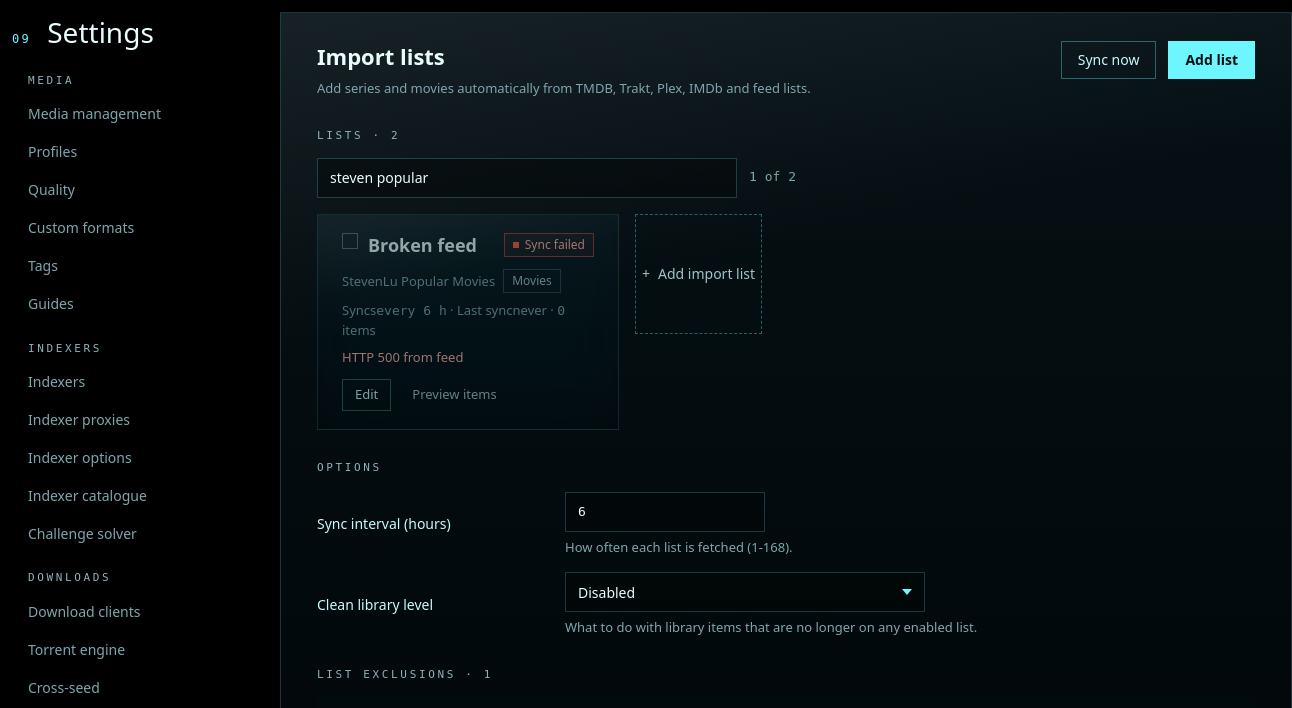
Scenario: Settings -> Import Lists › searches lists by name, list type and sync error, then clears
The width and height of the screenshot is (1292, 708).
Expected: the button "Broken feed" is shown, x1=368 y1=233 x2=494 y2=257
Expected: the button "Marvel" is not shown
Step 1. Replace the text in the search field named "Search this list" with "http 500" → [527, 178], box x1=317 y1=158 x2=737 y2=198
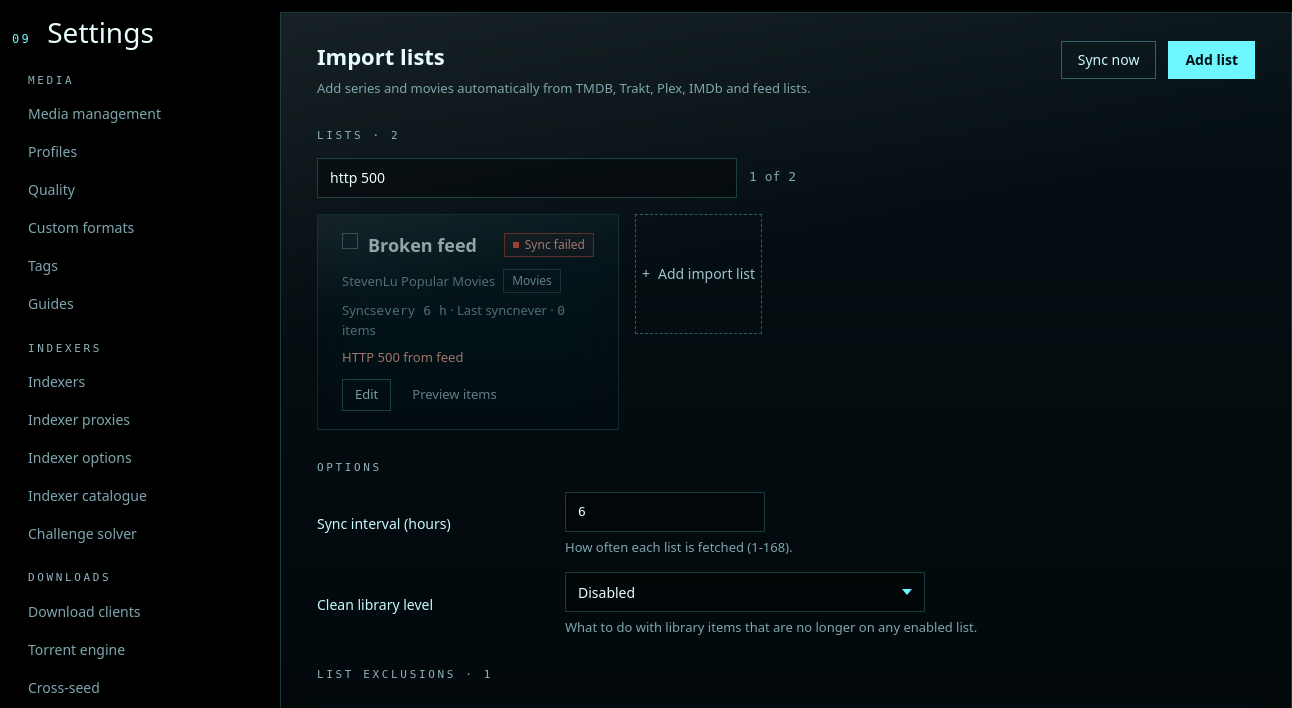
Step 2. Press Enter in the search field named "Search this list", box x1=317 y1=158 x2=737 y2=198
Expected: the text "1 of 2" is shown, x1=749 y1=168 x2=796 y2=187
Step 3. Replace the text in the search field named "Search this list" with "nothing at all" → [527, 178], box x1=317 y1=158 x2=737 y2=198
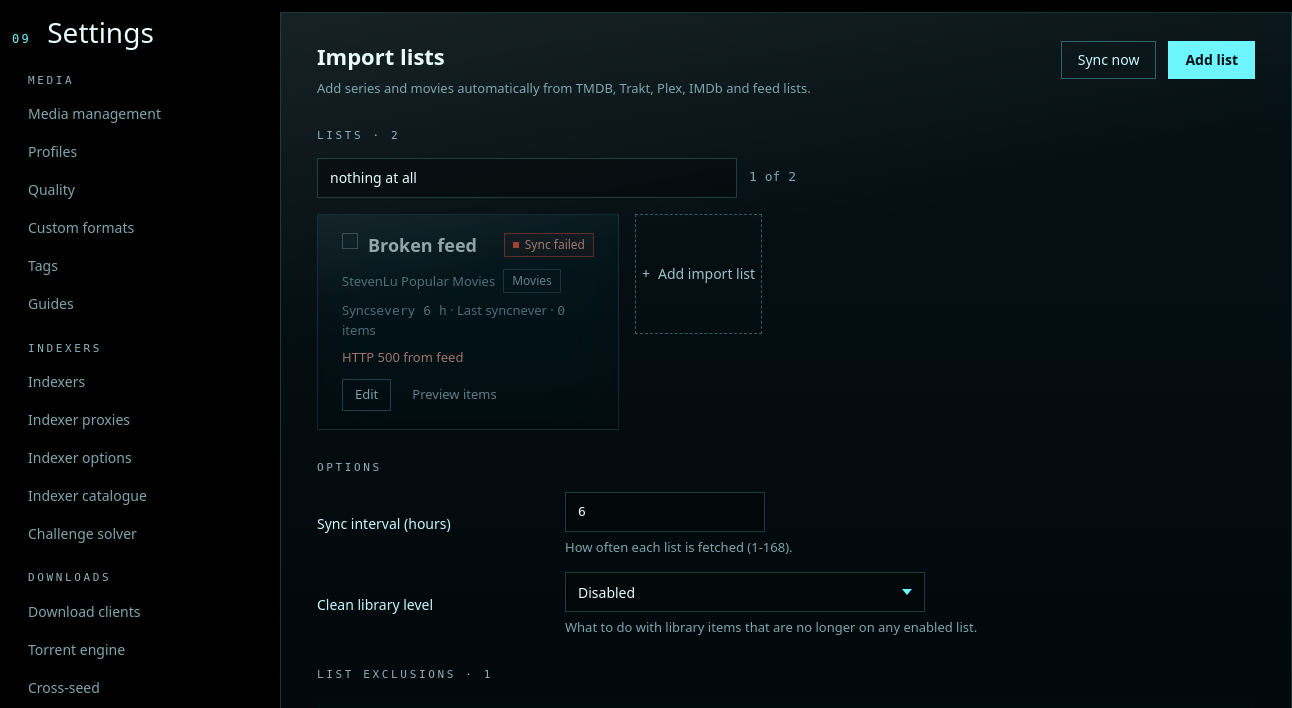
Step 4. Press Enter in the search field named "Search this list", box x1=317 y1=158 x2=737 y2=198
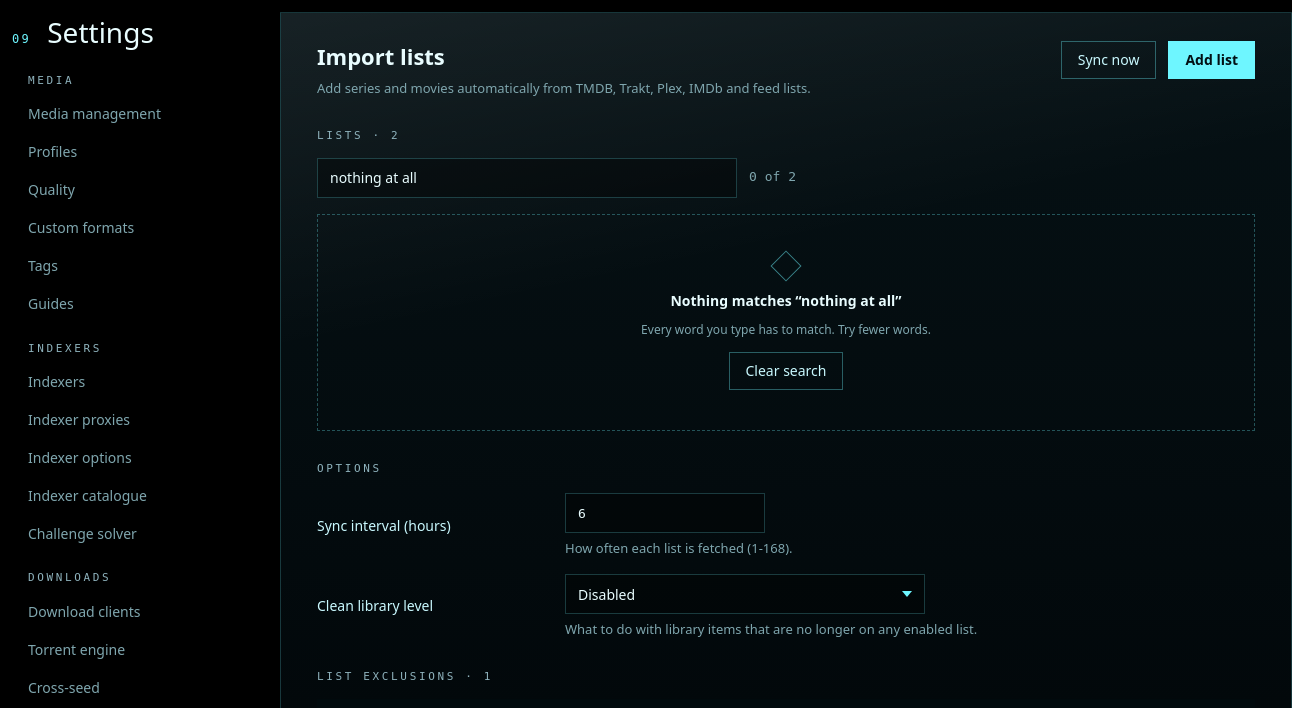
Step 5. Click the button "Clear search" → [786, 371], box x1=728 y1=352 x2=844 y2=390
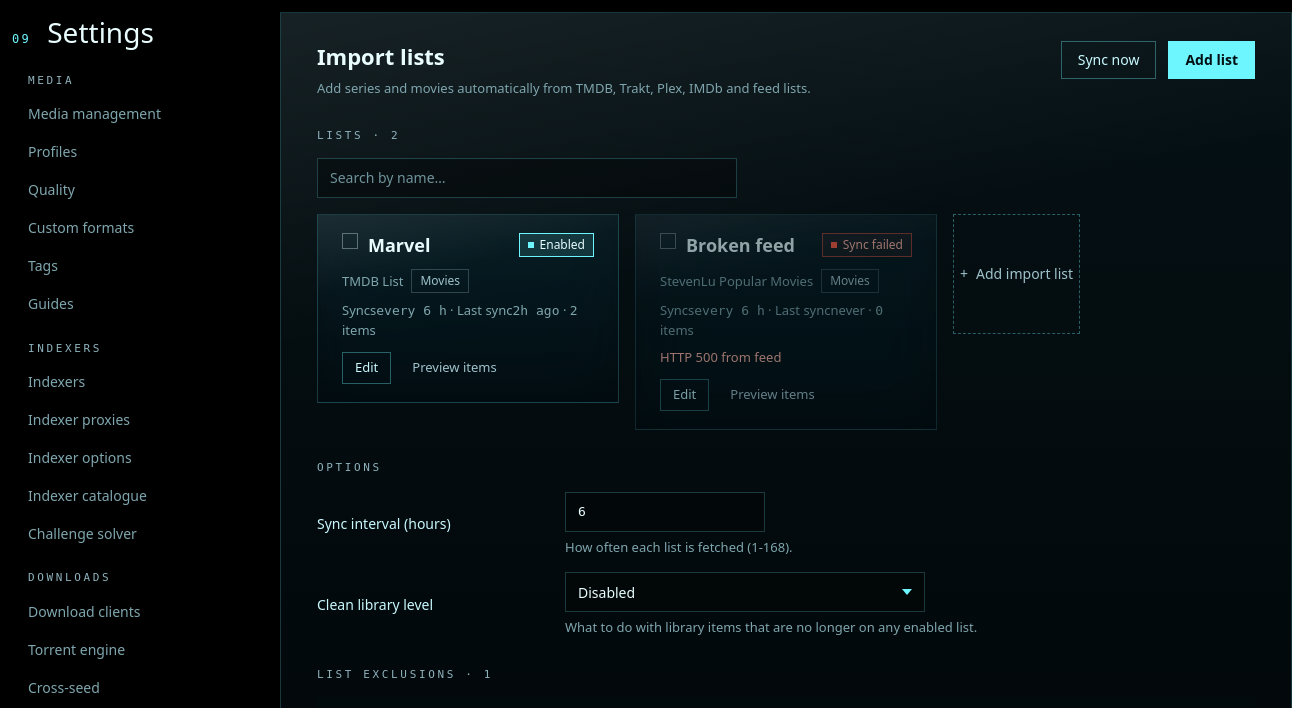
Result: the button "Marvel" is shown at x1=368 y1=233 x2=508 y2=257
